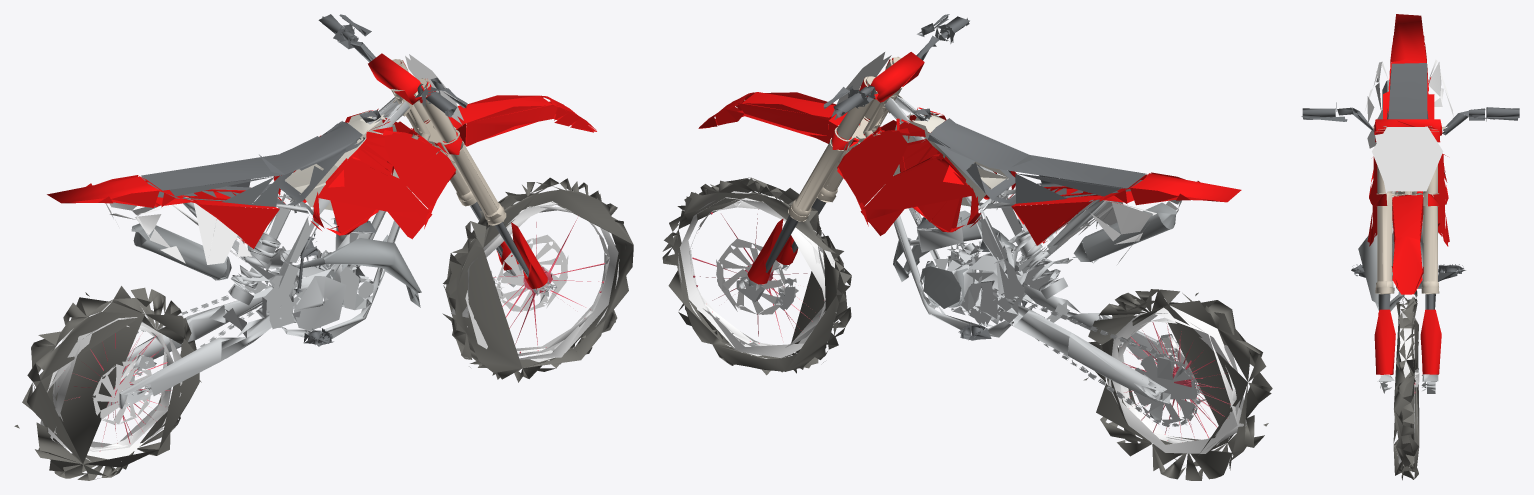
The model's file is veh-mx.glb.
The picture shows the model from 3 angles, left to right: view 1: azimuth 30°, elevation 25°; view 2: azimuth 150°, elevation 25°; view 3: azimuth 270°, elevation 25°; orthographic projection. The views are drawn at different scales.
Visible parts, largest first — view 1: p0; view 2: p0; view 3: p0.
Part boxes in pixels (box(x1,y1,x2,y2)): p0: box(14, 14, 633, 480); p0: box(662, 14, 1272, 480); p0: box(1301, 14, 1519, 480).
Bounding box in the file's own units: 156 × 87.21 × 56.11.
